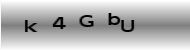4: (50, 15, 68, 30)
G: (78, 14, 96, 28)
U: (119, 17, 136, 32)
b: (106, 10, 121, 26)
k: (23, 19, 38, 34)
